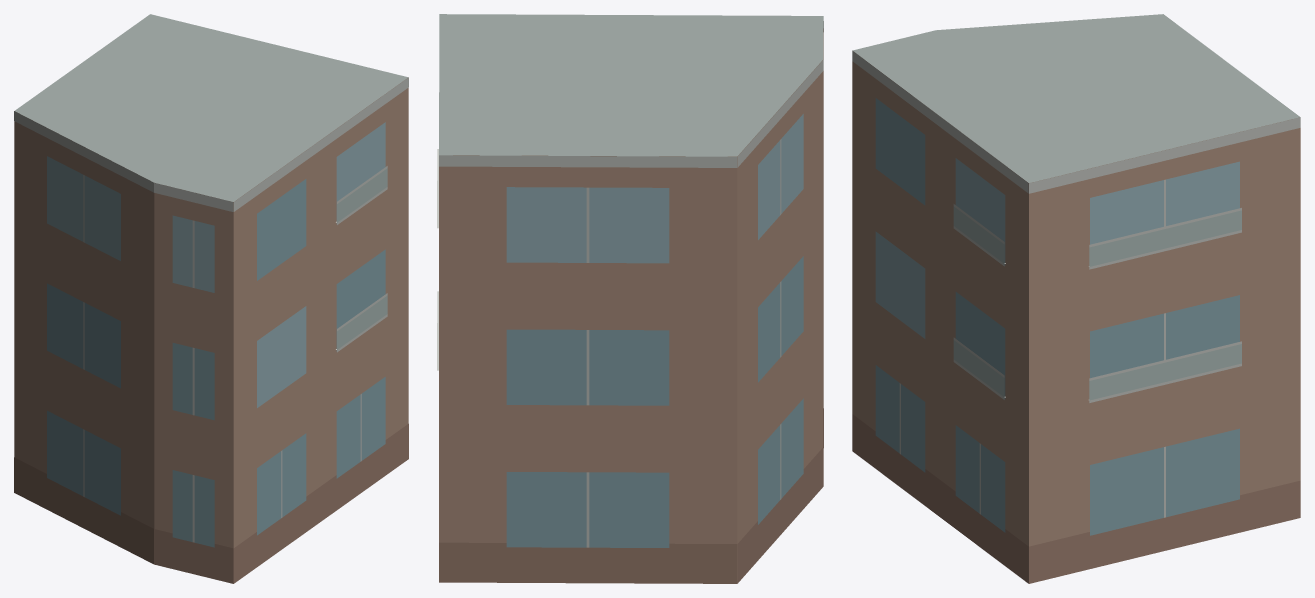
The model's file is survey-upis-32668193.glb.
The picture shows the model from 3 angles, left to right: view 1: azimuth 30°, elevation 25°; view 2: azimuth 150°, elevation 25°; view 3: azimuth 270°, elevation 25°; orthographic projection. The views are drawn at different scales.
Visible parts, largest first — view 1: survey-upis-32668193.tmp; view 2: survey-upis-32668193.tmp; view 3: survey-upis-32668193.tmp.
Part boxes in pixels (x1,y1,x2,y2): survey-upis-32668193.tmp: (14, 14, 408, 583); survey-upis-32668193.tmp: (437, 14, 823, 583); survey-upis-32668193.tmp: (852, 14, 1300, 583).
Size of the model in its own units: 8.34 by 9.2 by 9.34.
